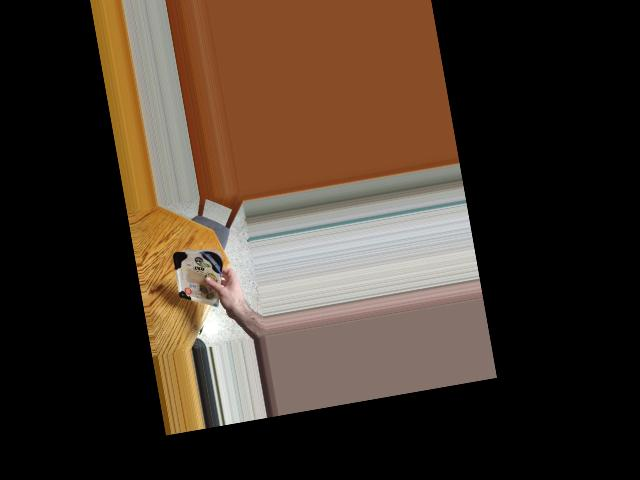cheese: (176, 244, 221, 307)
